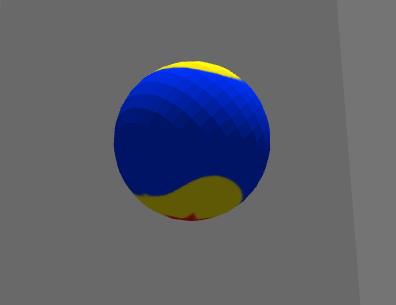toy story ball: (114, 60, 271, 221)
